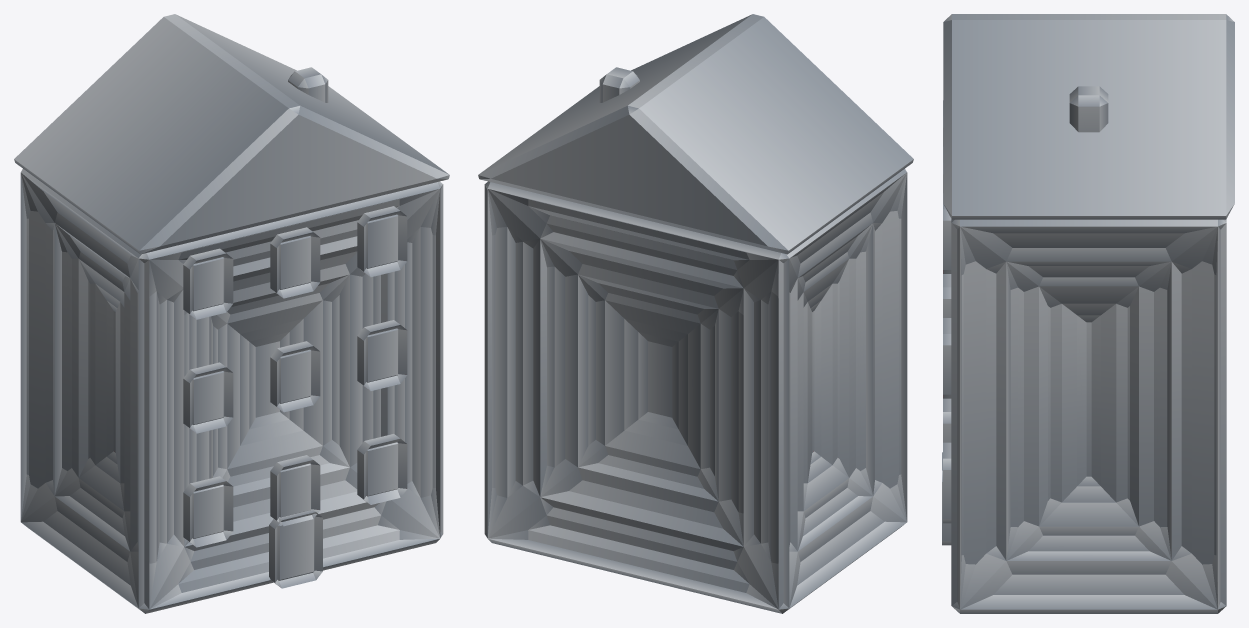
The model's file is dt_townhouse.fbx.
3 views of the same model, side by side, from view 1: azimuth 30°, elevation 25°; view 2: azimuth 150°, elevation 25°; view 3: azimuth 270°, elevation 25° (orthographic). The views are drawn at different scales.
Visible parts, largest first — view 1: dt_townhouse; view 2: dt_townhouse; view 3: dt_townhouse.
Boxes of the visible parts, bbox=[...] form: dt_townhouse: bbox=[14, 14, 449, 613]; dt_townhouse: bbox=[478, 14, 913, 613]; dt_townhouse: bbox=[942, 14, 1234, 613].
Bounding box in the file's own units: 2057 × 3000 × 1533.
